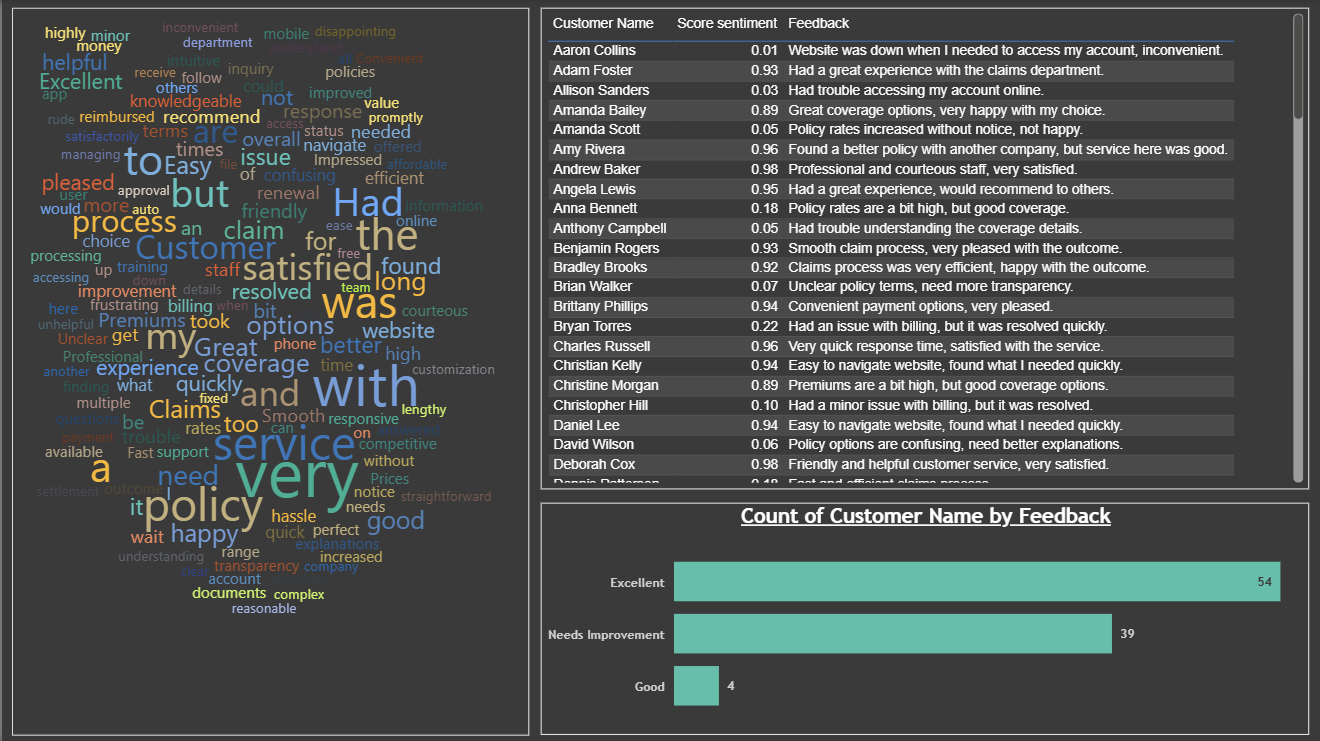

This screenshot's page, from the dashboard's own definition file:
{"tool":"powerbi","page":{"name":"Page 3","canvas":[1280,720],"ordinal":2},"visuals":[{"type":"WordCloud1447959067750","fields":{"Category":["Customer Feedback.Feedback"],"Values":["CountNonNull(Customer Feedback.Feedback)"]},"box":[9.7,8.4,499.5,702.1],"z":0},{"type":"barChart","title":"Count of Customer Name by Feedback","fields":{"Category":["Customer Feedback.Good/Improvement"],"Y":["CountNonNull(Customer Feedback.Customer Name)"]},"box":[520,486.2,742,224.4],"z":1},{"type":"tableEx","fields":{"Values":["Customer Feedback.Customer Name","Customer Feedback.Score sentiment","Customer Feedback.Feedback"]},"box":[520,8.4,742,464.5],"z":2}]}

Visuals, with their boxes in screenshot pixels (x1, y1, x2, y2), scaled from the page's 1280x720 canvas onto the 1320x741 screenshot:
WordCloud1447959067750 - Customer Feedback.Feedback x CountNonNull(Customer Feedback.Feedback): x1=10, y1=9, x2=525, y2=731
"Count of Customer Name by Feedback" barChart: x1=536, y1=500, x2=1301, y2=731
tableEx - Customer Feedback.Customer Name x Customer Feedback.Score sentiment: x1=536, y1=9, x2=1301, y2=487
